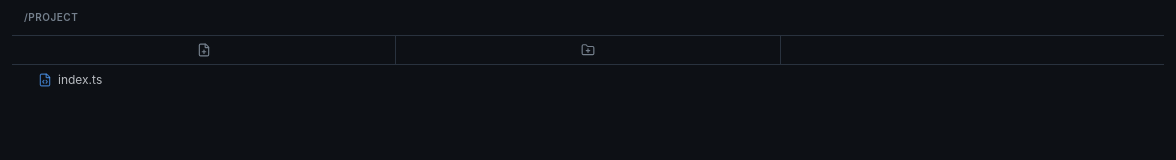
Test: FileTree — context menu › dismisses context menu on Escape
The width and height of the screenshot is (1176, 160).
Right-click the button "index.ts": coordinates (80, 80) [12, 69, 1164, 91]
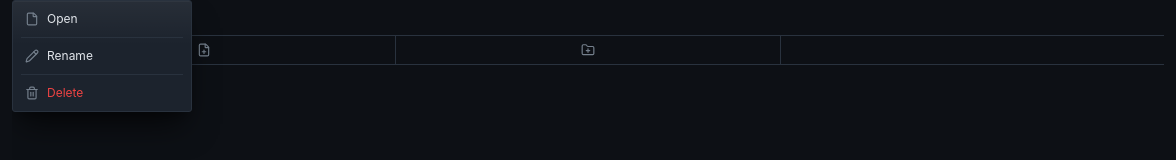
Check: the text "Open" is shown, box [47, 11, 78, 26]
Press Escape
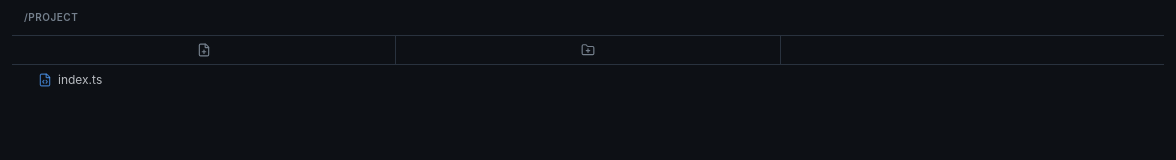
Check: the button "Open" is gone
